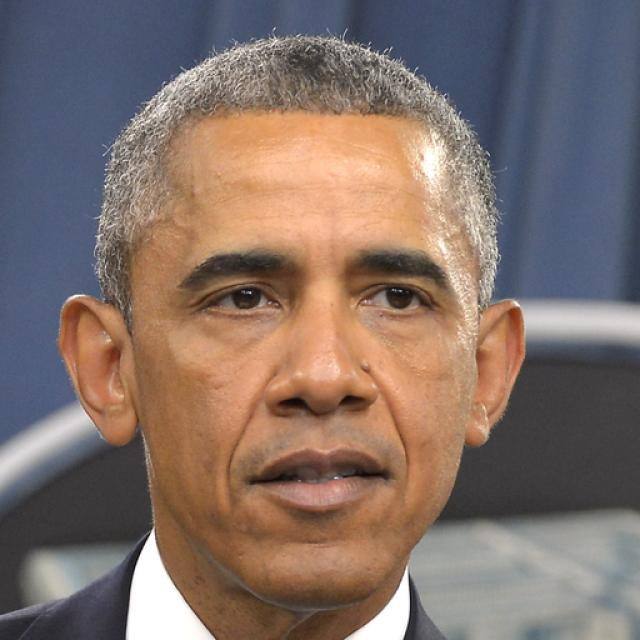Acne: (357, 358, 373, 376), (182, 187, 201, 202)
Wrinkle: (220, 373, 272, 510), (386, 390, 411, 484)
